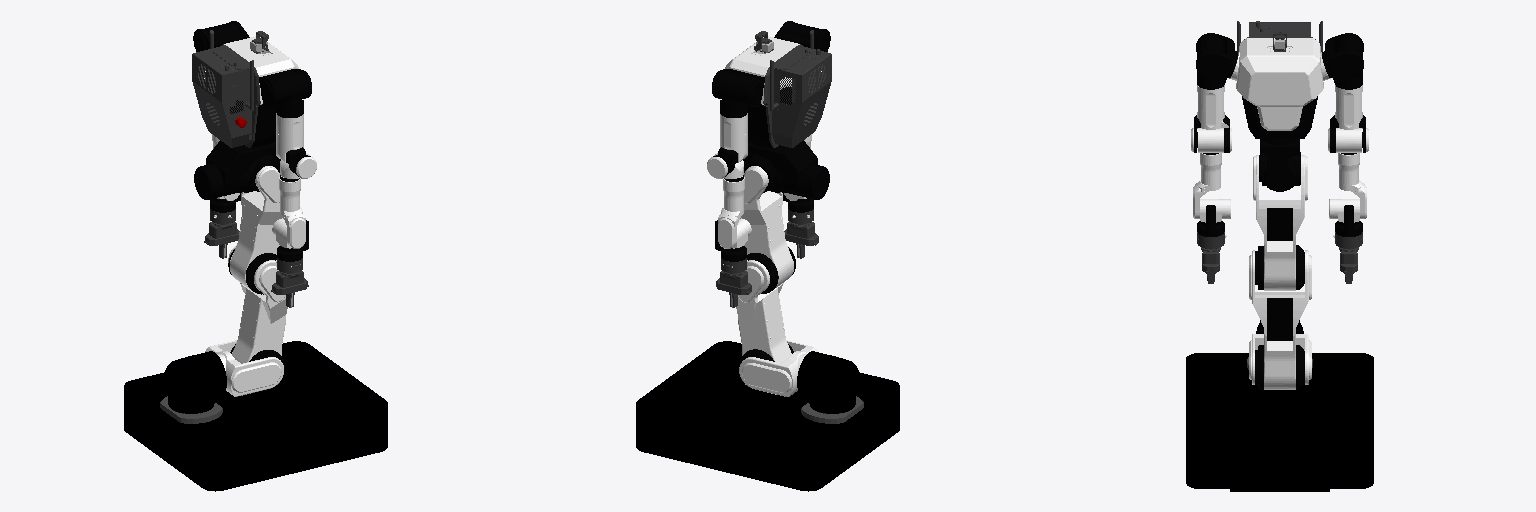
--- Render facts (derived) ---
3 views of the same robot in one strip: view 1: azimuth 30°, elevation 25°; view 2: azimuth 150°, elevation 25°; view 3: azimuth 270°, elevation 25° (orthographic).
Robot: RBY1_M_v1.1 — 34 links, 33 joints (22 revolute, 4 continuous, 4 prismatic, 3 fixed); root link base; default pose: all joints at 0.
Links seen in each view (by area): view 1: base, link_torso_5, link_torso_2, link_torso_1, link_torso_4, link_torso_0, link_right_arm_2, link_right_arm_1, link_right_arm_3, link_right_arm_5, link_right_arm_4, link_right_arm_0 (+4 smaller); view 2: base, link_torso_5, link_torso_2, link_torso_1, link_torso_4, link_torso_0, link_left_arm_2, link_left_arm_1, link_left_arm_3, link_left_arm_5, link_left_arm_4, link_left_arm_0 (+4 smaller); view 3: base, link_torso_5, link_torso_1, link_torso_2, link_torso_4, link_right_arm_2, link_left_arm_2, link_right_arm_3, link_left_arm_3, link_right_arm_0, link_left_arm_0, link_right_arm_5 (+4 smaller).
Link boxes in pixels (<box>): base: <box>124,341,387,491</box>; link_torso_5: <box>192,30,298,147</box>; link_torso_2: <box>228,166,283,294</box>; link_torso_1: <box>228,245,287,390</box>; link_torso_4: <box>194,140,279,199</box>; link_torso_0: <box>205,340,283,396</box>; link_right_arm_2: <box>275,113,316,178</box>; link_right_arm_1: <box>271,72,306,117</box>; link_right_arm_3: <box>277,153,309,209</box>; link_right_arm_5: <box>272,218,308,261</box>; link_right_arm_4: <box>280,207,305,248</box>; link_right_arm_0: <box>259,69,311,106</box>; base: <box>636,341,899,491</box>; link_torso_5: <box>725,30,831,147</box>; link_torso_2: <box>740,166,795,293</box>; link_torso_1: <box>736,246,793,390</box>; link_torso_4: <box>747,140,829,199</box>; link_torso_0: <box>739,341,817,396</box>; link_left_arm_2: <box>707,113,748,178</box>; link_left_arm_1: <box>717,72,752,117</box>; link_left_arm_3: <box>714,153,746,209</box>; link_left_arm_5: <box>715,218,751,261</box>; link_left_arm_4: <box>718,207,743,248</box>; link_left_arm_0: <box>712,69,764,106</box>; base: <box>1186,320,1373,491</box>; link_torso_5: <box>1228,21,1331,142</box>; link_torso_1: <box>1249,250,1311,389</box>; link_torso_2: <box>1253,155,1307,290</box>; link_torso_4: <box>1260,139,1299,191</box>; link_right_arm_2: <box>1191,85,1231,152</box>; link_left_arm_2: <box>1328,85,1368,152</box>; link_right_arm_3: <box>1197,128,1228,183</box>; link_left_arm_3: <box>1331,128,1362,183</box>; link_right_arm_0: <box>1196,33,1235,83</box>; link_left_arm_0: <box>1324,33,1363,83</box>; link_right_arm_5: <box>1197,199,1230,236</box>.
Size in the robot's own frame: 0.695 by 0.6 by 1.47 metres.
29 mesh visuals loaded from 28 distinct referenced files (25 Collada DAE); not drawn: 5 (reference not matched to a file when rendering).

The robot description file, URDF, robot "RBY1_M_v1.1":
<?xml version="1.0"?>
<robot name="RBY1_M_v1.1">
    <mobile type="mecanum" xyz="0 0 0" rpy="0 0 0" joints="wheel_fr wheel_fl wheel_rr wheel_rl"
            params="0.245 0.245 0.076"/> <!-- Lx, Ly, wheel_radius -->

    <link name="base">
        <inertial>
            <mass value="82.93082168"/>
            <origin rpy="0 0 0" xyz="-0.05361531 -0.00279946 0.13500266"/>
            <inertia ixx="2.38184773" ixy="0.00958286" ixz="0.32695003" iyy="4.04857218" iyz="-0.01527373"
                     izz="5.45210782"/>
        </inertial>
        <visual>
            <geometry>
                <mesh filename="./meshes/base.dae"/>
            </geometry>
        </visual>
    </link>

    <link name="wheel_fr_link">
        <inertial>
            <mass value="2.54410022"/>
            <origin rpy="0 0 3.1415926535897932384626433832795" xyz="-0.00010511 0.00094580 0.0"/>
            <inertia ixx="0.00470985" ixy="-0.00000025" ixz="0.0" iyy="0.00616429" iyz="0.0" izz="0.00470754"/>
        </inertial>
        <visual>
            <geometry>
                <mesh filename="./meshes/MECANUM_WHEEL.dae"/>
            </geometry>
        </visual>
    </link>

    <link name="wheel_fl_link">
        <inertial>
            <mass value="2.54417879"/>
            <origin rpy="0 0 0" xyz="-0.00010433 -0.00094577 0.0"/>
            <inertia ixx="0.00471013" ixy="0.00000025" ixz="0.0" iyy="0.00616468" iyz="0.0" izz="0.00470782"/>
        </inertial>
        <visual>
            <geometry>
                <mesh filename="./meshes/MECANUM_WHEEL_M.dae"/>
            </geometry>
        </visual>
    </link>

    <link name="wheel_rr_link">
        <inertial>
            <mass value="2.54410022"/>
            <origin rpy="0 0 0" xyz="-0.00010511 0.00094580 0.0"/>
            <inertia ixx="0.00470985" ixy="-0.00000025" ixz="0.0" iyy="0.00616429" iyz="0.0" izz="0.00470754"/>
        </inertial>
        <visual>
            <geometry>
                <mesh filename="./meshes/MECANUM_WHEEL_M.dae"/>
            </geometry>
        </visual>
    </link>

    <link name="wheel_rl_link">
        <inertial>
            <mass value="2.54417879"/>
            <origin rpy="0 0 3.1415926535897932384626433832795" xyz="-0.00010433 -0.00094577 0.0"/>
            <inertia ixx="0.00471013" ixy="0.00000025" ixz="0.0" iyy="0.00616468" iyz="0.0" izz="0.00470782"/>
        </inertial>

        <visual>
            <geometry>
                <mesh filename="./meshes/MECANUM_WHEEL.dae"/>
            </geometry>
        </visual>
    </link>

    <link name="link_torso_0">
        <inertial>
            <mass value="2.24282123"/>
            <origin rpy="0 0 0" xyz="-0.08848415 0.00021367 0.00000046"/>
            <inertia ixx="0.01413496" ixy="0.00092982" ixz="-0.00000010" iyy="0.01005357"
                     iyz="-0.00000008" izz="0.01892525"/>
        </inertial>

        <visual>
            <geometry>
                <mesh filename="./meshes/LINK_1.dae"/>
            </geometry>
        </visual>

        <collision>
            <origin xyz="-0.115 0 0" rpy="0 1.5708 0"/>
            <geometry>
                <capsule radius="0.105" length="0.230" coltype="1"/>
                <!-- <capsule sp="0.0 0.0 0.0" ep="-0.230 0.0 0.0" radius="0.105" length="1" /> -->
            </geometry>
        </collision>
    </link>

    <link name="link_torso_1">
        <inertial>
            <mass value="9.72162676"/>
            <origin rpy="0 0 0" xyz="0.00728955 -0.01728522 0.06911380"/>
            <inertia ixx="0.14862640" ixy="-0.00142621" ixz="-0.00951385" iyy="0.13854733"
                     iyz="-0.00975351" izz="0.02912982"/>
        </inertial>

        <visual>
            <geometry>
                <mesh filename="./meshes/LINK_2.dae"/>
            </geometry>
        </visual>

        <collision>
            <origin xyz="0.0100 0 0.2400" rpy="0 0 0"/>
            <geometry>
                <capsule radius="0.115" length="0.220" coltype="2"/>
                <!-- <capsule sp="0.01 0.0 0.130" ep="0.01 0.0 0.350" radius="0.115" /> -->
            </geometry>
        </collision>
    </link>

    <link name="link_torso_2">
        <inertial>
            <mass value="9.21691850"/>
            <origin rpy="0 0 0" xyz="0.00653835 -0.01769536 0.05636582"/>
            <inertia ixx="0.12162270" ixy="-0.00127910" ixz="-0.00831678" iyy="0.11589190"
                     iyz="-0.00873271" izz="0.03094484"/>
        </inertial>

        <visual>
            <geometry>
                <mesh filename="./meshes/LINK_3.dae"/>
            </geometry>
        </visual>

        <collision>
            <origin xyz="0.0250 0 0.2300" rpy="0 0 0"/>
            <geometry>
                <capsule radius="0.095" length="0.1600" coltype="4"/>
                <!-- <capsule sp="0.025 0.0 0.15" ep="0.025 0.0 0.310" radius="0.095" /> -->
            </geometry>
        </collision>
    </link>

    <link name="link_torso_3">
        <inertial>
            <mass value="4.18679196"/>
            <origin rpy="0 0 0" xyz="-0.00574156 -0.01725975 0.00005610"/>
            <inertia ixx="0.00849870" ixy="0.00040861" ixz="-0.00000263" iyy="0.00929513"
                     iyz="-0.00001243" izz="0.00955442"/>
        </inertial>

        <visual>
            <geometry>
                <mesh filename="./meshes/LINK_4.dae"/>
            </geometry>
        </visual>
    </link>

    <link name="link_torso_4">
        <inertial>
            <mass value="4.45566276"/>
            <origin rpy="0 0 0" xyz="-0.09097095 0.00005085 0.02601950"/>
            <inertia ixx="0.01545991" ixy="0.00001883" ixz="-0.00780349" iyy="0.02550888" iyz="0.00000715"
                     izz="0.01952563"/>
        </inertial>

        <visual>
            <geometry>
                <mesh filename="./meshes/LINK_5.dae"/>
            </geometry>
        </visual>


        <collision>
            <origin xyz="-0.070000 0 0.038500" rpy="0 1.5708 0"/>
            <geometry>
                <capsule radius="0.105" length="0.2" coltype="8"/>
                <!-- <capsule sp="0.03 0.0 0.0385" ep="-0.170 0.0 0.0385" radius="0.105" /> -->
            </geometry>
        </collision>
    </link>

    <link name="link_torso_5">
        <inertial>
            <mass value="12.59012341"/>
            <origin rpy="0 0 0" xyz="-0.01338376 0.00025621 -0.03272487"/>
            <inertia ixx="0.21375525" ixy="0.00051520" ixz="0.00880124" iyy="0.16562090" iyz="-0.00023995"
                     izz="0.13308879"/>
        </inertial>

        <visual>
            <geometry>
                <mesh filename="./meshes/LINK_6.dae"/>
            </geometry>
        </visual>

        <collision>
            <origin xyz="0 0 0.0075" rpy="0 0 0"/>
            <geometry>
                <capsule radius="0.155" length="0.1350" coltype="16"/>
                <!-- <capsule sp="0.0 0.0 -0.06" ep="0.0 0.0 0.075" radius="0.155" /> -->
            </geometry>
        </collision>
    </link>

    <link name="link_right_arm_0">
        <inertial>
            <mass value="1.26164242"/>
            <origin rpy="0 0 0" xyz="-0.00316662 0.03437181 -0.00000030"/>
            <inertia ixx="0.00230621" ixy="0.00039024" ixz="-0.00000256" iyy="0.00426418" iyz="0.00000118"
                     izz="0.00432156"/>
        </inertial>

        <visual>
            <geometry>
                <mesh filename="./meshes/LINK_7.dae"/>
            </geometry>
        </visual>

        <collision>
            <origin xyz="-0.015 0.018 -0.008" rpy="0 1.5708 0"/>
            <geometry>
                <capsule radius="0.075" length="0.0700"/>
            </geometry>
        </collision>
    </link>

    <link name="link_right_arm_1">
        <inertial>
            <mass value="2.27287031"/>
            <origin rpy="0 0 0" xyz="-0.00307855 -0.00124741 -0.01294324"/>
            <inertia ixx="0.00388490" ixy="-0.00001477" ixz="0.00011465" iyy="0.00447034"
                     iyz="-0.00010023" izz="0.00288341"/>
        </inertial>

        <visual>
            <geometry>
                <mesh filename="./meshes/LINK_8.dae"/>
            </geometry>
        </visual>

        <collision>
            <origin xyz="0 0 -0.1000" rpy="0 0 0"/>
            <geometry>
                <capsule radius="0.05" length="0.2" coltype="32"/>
                <!-- <capsule sp="0.0 0.0 0.0" ep="0.0 0.0 -0.200" radius="0.050" /> -->
            </geometry>
        </collision>
    </link>

    <link name="link_right_arm_2">
        <inertial>
            <mass value="2.46909439"/>
            <origin rpy="0 0 0" xyz="0.00115434 -0.00196635 -0.16192524"/>
            <inertia ixx="0.00980269" ixy="0.00005871" ixz="0.00051888" iyy="0.00924560" iyz="-0.00045932"
                     izz="0.00329867"/>
        </inertial>

        <visual>
            <geometry>
                <mesh filename="./meshes/LINK_9.dae"/>
            </geometry>
        </visual>

        <collision>
            <origin xyz="0.0260 0 -0.2760" rpy="1.5708 0 0"/>
            <geometry>
                <capsule radius="0.05" length="0.080000" coltype="64"/>
                <!-- <capsule sp="0.026 -0.040 -0.276" ep="0.026 0.040 -0.276" radius="0.05" /> -->
            </geometry>
        </collision>
    </link>

    <link name="link_right_arm_3">
        <inertial>
            <mass value="2.26099493"/>
            <origin rpy="0 0 0" xyz="-0.01603135 -0.00692891 -0.04549811"/>
            <inertia ixx="0.00822606" ixy="0.00027620" ixz="-0.00156570" iyy="0.00844870" iyz="0.00076157"
                     izz="0.00236614"/>
        </inertial>

        <visual>
            <geometry>
                <mesh filename="./meshes/LINK_10.dae"/>
            </geometry>
        </visual>

        <collision>
            <origin xyz="-0.0310 0 -0.1075" rpy="0 0 0"/>
            <geometry>
                <capsule radius="0.04" length="0.1150" coltype="128" colaffinity="30"/>
                <!-- <capsule sp="-0.031 0.0 -0.05" ep="-0.031 0.0 -0.165" radius="0.04" /> -->
            </geometry>
        </collision>
    </link>

    <link name="link_right_arm_4">
        <inertial>
            <mass value="0.42508710"/>
            <origin rpy="0 0 0" xyz="-0.00000011 -0.02696036 0.06182110"/>
            <inertia ixx="0.00082466" ixy="0.0" ixz="0.0" iyy="0.00075398" iyz="-0.00025338"
                     izz="0.00039794"/>
        </inertial>

        <visual>
            <geometry>
                <mesh filename="./meshes/LINK_11.dae"/>
            </geometry>
        </visual>

        <collision>
            <origin xyz="0 -0.038 0.0175" rpy="0 0 0"/>
            <geometry>
                <capsule radius="0.035" length="0.095" coltype="256" colaffinity="30"/>
            </geometry>
        </collision>
    </link>

    <link name="link_right_arm_5">
        <inertial>
            <mass value="1.60506693"/>
            <origin rpy="0 0 0" xyz="0.00592642 -0.00537804 -0.02584713"/>
            <inertia ixx="0.00247557" ixy="-0.00004984" ixz="-0.00009861" iyy="0.00268241"
                     iyz="0.00021452" izz="0.00166724"/>
        </inertial>

        <visual>
            <geometry>
                <mesh filename="./meshes/LINK_12_v1.1.dae"/>
            </geometry>
        </visual>

        <collision>
            <origin xyz="0 0 -0.08565" rpy="0 0 0"/>
            <geometry>
                <capsule radius="0.075" length="0.2213" coltype="512" colaffinity="31"/>
            </geometry>
        </collision>
    </link>

    <link name="link_right_arm_6">
        <inertial>
            <mass value="0.42751673"/>
            <origin rpy="0 0 0" xyz="0.00024951 -0.00019562 -0.10711314"/>
            <inertia ixx="0.00029613" ixy="-0.00000186" ixz="-0.00000157" iyy="0.00030651"
                     iyz="0.00000221" izz="0.00048946"/>
        </inertial>

        <visual>
            <geometry>
                <mesh filename="./meshes/LINK_13_v1.1.dae"/>
            </geometry>
        </visual>
    </link>

    <link name="link_left_arm_0">
        <inertial>
            <mass value="1.26164242"/>
            <origin rpy="0 0 0" xyz="-0.00316662 -0.03437151 0.00000242"/>
            <inertia ixx="0.00230624" ixy="-0.00039022" ixz="0.00000269" iyy="0.00426418" iyz="0.00000108"
                     izz="0.00432159"/>
        </inertial>

        <visual>
            <geometry>
                <mesh filename="./meshes/LINK_14.dae"/>
            </geometry>
        </visual>

        <collision>
            <origin xyz="-0.015 -0.018 -0.008" rpy="0 1.5708 0"/>
            <geometry>
                <capsule radius="0.075" length="0.0700"/>
            </geometry>
        </collision>
    </link>

    <link name="link_left_arm_1">
        <inertial>
            <mass value="1.88138658"/>
            <origin rpy="0 0 0" xyz="-0.00183470 0.00040596 -0.01008733"/>
            <inertia ixx="0.00295838" ixy="-0.00001176" ixz="0.00006949" iyy="0.00355208" iyz="0.00004467"
                     izz="0.00230558"/>
        </inertial>

        <visual>
            <geometry>
                <mesh filename="./meshes/LINK_15.dae"/>
            </geometry>
        </visual>

        <collision>
            <origin xyz="0 0 -0.1000" rpy="0 0 0"/>
            <geometry>
                <capsule radius="0.050" length="0.2000" colaffinity="768"/>
            </geometry>
        </collision>
    </link>

    <link name="link_left_arm_2">
        <inertial>
            <mass value="2.35634437"/>
            <origin rpy="0 0 0" xyz="0.00066086 -0.00038583 -0.15742972"/>
            <inertia ixx="0.00842712" ixy="0.00000247" ixz="0.00036948" iyy="0.00802311" iyz="-0.00006550"
                     izz="0.00295678"/>
        </inertial>

        <visual>
            <geometry>
                <mesh filename="./meshes/LINK_16.dae"/>
            </geometry>
        </visual>

        <collision>
            <origin xyz="0.0260 0 -0.2760" rpy="1.5708 0 0"/>
            <geometry>
                <capsule radius="0.05" length="0.080000" colaffinity="768"/>
            </geometry>
        </collision>
    </link>

    <link name="link_left_arm_3">
        <inertial>
            <mass value="2.00905891"/>
            <origin rpy="0 0 0" xyz="-0.01565298 0.00793126 -0.04997943"/>
            <inertia ixx="0.00756474" ixy="-0.00026771" ixz="-0.00155419" iyy="0.00772758"
                     iyz="-0.00084364" izz="0.00199754"/>
        </inertial>

        <visual>
            <geometry>
                <mesh filename="./meshes/LINK_17.dae"/>
            </geometry>
        </visual>

        <collision>
            <origin xyz="-0.0310 0 -0.1075" rpy="0 0 0"/>
            <geometry>
                <capsule radius="0.04" length="0.1150" colaffinity="926"/>
            </geometry>
        </collision>
    </link>

    <link name="link_left_arm_4">
        <inertial>
            <mass value="0.42508710"/>
            <origin rpy="0 0 0" xyz="0.00000011 0.02696036 0.06182110"/>
            <inertia ixx="0.00082466" ixy="0.0" ixz="0.0" iyy="0.00075398" iyz="0.00025338"
                     izz="0.00039794"/>
        </inertial>

        <visual>
            <geometry>
                <mesh filename="./meshes/LINK_18.dae"/>
            </geometry>
        </visual>

        <collision>
            <origin xyz="0 0.038000 0.017500" rpy="0 0 0"/>
            <geometry>
                <capsule radius="0.035" length="0.095000" colaffinity="1022"/>
            </geometry>
        </collision>
    </link>

    <link name="link_left_arm_5">
        <inertial>
            <mass value="1.60424243"/>
            <origin rpy="0 0 0" xyz="0.00592398 -0.01167056 -0.02584035"/>
            <inertia ixx="0.00247523" ixy="-0.00004992" ixz="-0.00009867" iyy="0.00268221"
                     iyz="0.00021464" izz="0.00166703"/>
        </inertial>

        <visual>
            <geometry>
                <mesh filename="./meshes/LINK_19_v1.1.dae"/>
            </geometry>
        </visual>

        <collision>
            <origin xyz="0 0 -0.08565" rpy="0 0 0"/>
            <geometry>
                <capsule radius="0.075" length="0.2213" colaffinity="1023"/>
            </geometry>
        </collision>
    </link>

    <link name="link_left_arm_6">
        <inertial>
            <mass value="0.42751673"/>
            <origin rpy="0 0 0" xyz="-0.00024951 0.00019562 -0.10711314"/>
            <inertia ixx="0.00029613" ixy="-0.00000186" ixz="0.00000157" iyy="0.00030651"
                     iyz="-0.00000221" izz="0.00048946"/>
        </inertial>

        <visual>
            <geometry>
                <mesh filename="./meshes/LINK_20_v1.1.dae"/>
            </geometry>
        </visual>
    </link>

    <link name="ee_right">
        <inertial>
            <mass value="0.46704998"/>
            <origin rpy="0 0 0" xyz="0.00212703 0.00000615 -0.04287176"/>
            <inertia ixx="0.00032067" ixy="0.00002383" ixz="-0.00000785" iyy="0.00059559"
                     iyz="-0.00000007" izz="0.00052732"/>
        </inertial>

        <visual>
            <geometry>
                <mesh filename="./meshes/EE_BODY.dae"/>
            </geometry>
        </visual>
    </link>

    <link name="ee_finger_r1">
        <inertial>
            <mass value="0.03326999"/>
            <origin rpy="0 0 0" xyz="0.00278346 -0.00000329 -0.02570112"/>
            <inertia ixx="0.00001231" ixy="0.0" ixz="-0.00000042" iyy="0.00001066" iyz="0.0"
                     izz="0.00000224"/>
        </inertial>

        <visual>
            <geometry>
                <mesh filename="./meshes/EE_FINGER.dae"/>
            </geometry>
        </visual>
    </link>

    <link name="ee_finger_r2">
        <inertial>
            <mass value="0.03326999"/>
            <origin rpy="0 0 0" xyz="0.00278346 -0.00000329 -0.02570112"/>
            <inertia ixx="0.00001231" ixy="0.0" ixz="-0.00000042" iyy="0.00001066" iyz="0.0"
                     izz="0.00000224"/>
        </inertial>

        <visual>
            <geometry>
                <mesh filename="./meshes/EE_FINGER.dae"/>
            </geometry>
        </visual>
    </link>

    <link name="ee_left">
        <inertial>
            <mass value="0.46704998"/>
            <origin rpy="0 0 0" xyz="0.00212703 0.00000615 -0.04287176"/>
            <inertia ixx="0.00032067" ixy="0.00002383" ixz="-0.00000785" iyy="0.00059559"
                     iyz="-0.00000007" izz="0.00052732"/>
        </inertial>

        <visual>
            <geometry>
                <mesh filename="./meshes/EE_BODY.dae"/>
            </geometry>
        </visual>
    </link>

    <link name="ee_finger_l1">
        <inertial>
            <mass value="0.03326999"/>
            <origin rpy="0 0 0" xyz="0.00278346 -0.00000329 -0.02570112"/>
            <inertia ixx="0.00001231" ixy="0.0" ixz="-0.00000042" iyy="0.00001066" iyz="0.0"
                     izz="0.00000224"/>
        </inertial>

        <visual>
            <geometry>
                <mesh filename="./meshes/EE_FINGER.dae"/>
            </geometry>
        </visual>
    </link>

    <link name="ee_finger_l2">
        <inertial>
            <mass value="0.03326999"/>
            <origin rpy="0 0 0" xyz="0.00278346 -0.00000329 -0.02570112"/>
            <inertia ixx="0.00001231" ixy="0.0" ixz="-0.00000042" iyy="0.00001066" iyz="0.0"
                     izz="0.00000224"/>
        </inertial>

        <visual>
            <geometry>
                <mesh filename="./meshes/EE_FINGER.dae"/>
            </geometry>
        </visual>
    </link>

    <link name="link_head_0">
        <inertial>
            <mass value="0.07582110"/>
            <origin rpy="0 0 0" xyz="-0.00800549 0.0 -0.01100308"/>
            <inertia ixx="0.00003307" ixy="0.0" ixz="-0.00000290" iyy="0.00002209" iyz="0.0"
                     izz="0.00003796"/>
        </inertial>

        <visual>
            <geometry>
                <mesh filename="./meshes/PAN_TILT_1.dae"/>
            </geometry>
        </visual>
    </link>

    <link name="link_head_1">
        <inertial>
            <mass value="0.07450580"/>
            <origin rpy="0 0 0" xyz="-0.01150679 -0.00114270 -0.00031579"/>
            <inertia ixx="0.00001850" ixy="-0.00000035" ixz="0.00000203" iyy="0.00002451"
                     iyz="-0.00000010" izz="0.00002062"/>
        </inertial>

        <visual>
            <geometry>
                <mesh filename="./meshes/PAN_TILT_2.dae"/>
            </geometry>
        </visual>
    </link>

    <link name="link_head_2">
        <inertial>
            <mass value="0.03585374"/>
            <origin rpy="0 0 0" xyz="-0.00081966 0.00099024 0.02283704"/>
            <inertia ixx="0.00002046" ixy="0.00000001" ixz="-0.00000027" iyy="0.00001044" iyz="0.00000076"
                     izz="0.00001291"/>
        </inertial>

        <visual>
            <geometry>
                <mesh filename="./meshes/PAN_TILT_3.dae"/>
            </geometry>
        </visual>
    </link>


    <!-- Joints -->
    <joint name="wheel_fr" type="continuous">
        <parent link="base"/>
        <child link="wheel_fr_link"/>
        <origin rpy="0.0 0.0 0.0" xyz="0.243 -0.245 0.076"/>
        <axis xyz="0 1 0"/>
    </joint>

    <joint name="wheel_fl" type="continuous">
        <parent link="base"/>
        <child link="wheel_fl_link"/>
        <origin rpy="0.0 0.0 0.0" xyz="0.243 0.245 0.076"/>
        <axis xyz="0 1 0"/>
    </joint>

    <joint name="wheel_rr" type="continuous">
        <parent link="base"/>
        <child link="wheel_rr_link"/>
        <origin rpy="0.0 0.0 0.0" xyz="-0.247 -0.245 0.076"/>
        <axis xyz="0 1 0"/>
    </joint>

    <joint name="wheel_rl" type="continuous">
        <parent link="base"/>
        <child link="wheel_rl_link"/>
        <origin rpy="0.0 0.0 0.0" xyz="-0.247 0.245 0.076"/>
        <axis xyz="0 1 0"/>
    </joint>

    <joint name="torso_0" type="revolute">
        <parent link="base"/>
        <child link="link_torso_0"/>
        <origin rpy="0.0 0.0 0.0" xyz="0.0 0.0 0.2965"/>
        <axis xyz="1 0 0"/>
        <!-- Nm, rad/s^2, rad/s, (min) rad, (max) rad -->
        <!-- 270Nm, 5rad/s^2, 120deg/s, -15deg, 15deg -->
        <limit effort="270.0"
               acceleration="5.0"
               velocity="2.09439510"
               lower="-0.261799388"
               upper="0.261799388"
        />
    </joint>

    <joint name="torso_1" type="revolute">
        <parent link="link_torso_0"/>
        <child link="link_torso_1"/>
        <origin rpy="0.0 0.0 0.0" xyz="0.0 0.0 0.0"/>
        <axis xyz="0 1 0"/>
        <!-- Nm, rad/s^2, rad/s, (min) rad, (max) rad -->
        <!-- 270Nm, 5rad/s^2, 120deg/s, -30deg, 90deg -->
        <limit effort="270.0"
               acceleration="5.0"
               velocity="2.09439510"
               lower="-0.523598776"
               upper="1.570796327"
        />
    </joint>

    <joint name="torso_2" type="revolute">
        <parent link="link_torso_1"/>
        <child link="link_torso_2"/>
        <origin rpy="0.0 0.0 0.0" xyz="0.0 0.0 0.350"/>
        <axis xyz="0 1 0"/>
        <!-- Nm, rad/s^2, rad/s, (min) rad, (max) rad -->
        <!-- 270Nm, 5rad/s^2, 120deg/s, -150deg, 90deg -->
        <limit effort="270.0"
               acceleration="5.0"
               velocity="2.09439510"
               lower="-2.617993878"
               upper="1.570796327"
        />
    </joint>

    <joint name="torso_3" type="revolute">
        <parent link="link_torso_2"/>
        <child link="link_torso_3"/>
        <origin rpy="0.0 0.0 0.0" xyz="0.0 0.0 0.350"/>
        <axis xyz="0 1 0"/>
        <!-- Nm, rad/s^2, rad/s, (min) rad, (max) rad -->
        <!-- 120Nm, 5rad/s^2, 180deg/s, -45deg, 90deg -->
        <limit effort="120.0"
               acceleration="5.0"
               velocity="3.141592654"
               lower="-0.785398163"
               upper="1.570796327"
        />
    </joint>

    <joint name="torso_4" type="revolute">
        <parent link="link_torso_3"/>
        <child link="link_torso_4"/>
        <origin rpy="0.0 0.0 0.0" xyz="0.0 0.0 0.0"/>
        <axis xyz="1 0 0"/>
        <!-- Nm, rad/s^2, rad/s, (min) rad, (max) rad -->
        <!-- 120Nm, 5rad/s^2, 180deg/s, -30deg, 30deg -->
        <limit effort="120.0"
               acceleration="5.0"
               velocity="3.141592654"
               lower="-0.523598776"
               upper="0.523598776"
        />
    </joint>

    <joint name="torso_5" type="revolute">
        <parent link="link_torso_4"/>
        <child link="link_torso_5"/>
        <origin rpy="0.0 0.0 0.0" xyz="0.0 0.0 0.309426548461"/>
        <axis xyz="0 0 1"/>
        <!-- Nm, rad/s^2, rad/s, (min) rad, (max) rad -->
        <!-- 120Nm, 5rad/s^2, 180deg/s, -135deg, 135deg -->
        <limit effort="120.0"
               acceleration="5.0"
               velocity="3.141592654"
               lower="-2.35619449"
               upper="2.35619449"
        />
    </joint>

    <joint name="right_arm_0" type="revolute">
        <parent link="link_torso_5"/>
        <child link="link_right_arm_0"/>
        <origin rpy="0.0 0.0 0.0" xyz="0.0 -0.220 0.080073451539 "/>
        <axis xyz="0.0 0.93969262 -0.34202014"/>
        <!-- Nm, rad/s^2, rad/s, (min) rad, (max) rad -->
        <!-- 70Nm, 10rad/s^2, 180deg/s, -180deg, 180deg -->
        <limit effort="70.0"
               acceleration="10.0"
               velocity="3.141592654"
               lower="-3.141592654"
               upper="3.141592654"
        />
    </joint>

    <joint name="right_arm_1" type="revolute">
        <parent link="link_right_arm_0"/>
        <child link="link_right_arm_1"/>
        <origin rpy="0.0 0.0 0.0" xyz="0.0 0.0 0.0"/>
        <axis xyz="1 0 0"/>
        <!-- Nm, rad/s^2, rad/s, (min) rad, (max) rad -->
        <!-- 70Nm, 10rad/s^2, 180deg/s, -180deg, 1deg -->
        <limit effort="70.0"
               acceleration="10.0"
               velocity="3.141592654"
               lower="-3.141592654"
               upper="0.017453293"
        />
    </joint>

    <joint name="right_arm_2" type="revolute">
        <parent link="link_right_arm_1"/>
        <child link="link_right_arm_2"/>
        <origin rpy="0.0 0.0 0.0" xyz="0.0 0.0 0.0"/>
        <axis xyz="0 0 1"/>
        <!-- Nm, rad/s^2, rad/s, (min) rad, (max) rad -->
        <!-- 70Nm, 10rad/s^2, 180deg/s, -180deg, 180deg -->
        <limit effort="70.0"
               acceleration="10.0"
               velocity="3.141592654"
               lower="-3.141592654"
               upper="3.141592654"
        />
    </joint>

    <joint name="right_arm_3" type="revolute">
        <parent link="link_right_arm_2"/>
        <child link="link_right_arm_3"/>
        <origin rpy="0.0 0.0 0.0" xyz="0.031 0.0 -0.276"/>
        <axis xyz="0 1 0"/>
        <!-- Nm, rad/s^2, rad/s, (min) rad, (max) rad -->
        <!-- 40Nm, 10rad/s^2, 180deg/s, -150deg, 1deg -->
        <limit effort="40.0"
               acceleration="10.0"
               velocity="3.141592654"
               lower="-2.617993878"
               upper="0.017453293"
        />
    </joint>

    <joint name="right_arm_4" type="revolute">
        <parent link="link_right_arm_3"/>
        <child link="link_right_arm_4"/>
        <origin rpy="0.0 0.0 0.0" xyz="-0.031 0.0 -0.256"/>
        <axis xyz="0 0 1"/>
        <!-- Nm, rad/s^2, rad/s, (min) rad, (max) rad -->
        <!-- 10Nm, 10rad/s^2, 360deg/s, -180deg, 180deg -->
        <limit effort="10.0"
               acceleration="10.0"
               velocity="6.283185308"
               lower="-3.141592654"
               upper="3.141592654"
        />
    </joint>

    <joint name="right_arm_5" type="revolute">
        <parent link="link_right_arm_4"/>
        <child link="link_right_arm_5"/>
        <origin rpy="0.0 0.0 0.0" xyz="0.0 0.0 0.0"/>
        <axis xyz="0 1 0"/>
        <!-- Nm, rad/s^2, rad/s, (min) rad, (max) rad -->
        <!-- 10Nm, 10rad/s^2, 360deg/s, -90deg, 110deg -->
        <limit effort="10.0"
               acceleration="10.0"
               velocity="6.283185308"
               lower="-1.570796327"
               upper="1.919862177"
        />
    </joint>

    <joint name="right_arm_6" type="revolute">
        <parent link="link_right_arm_5"/>
        <child link="link_right_arm_6"/>
        <origin rpy="0.0 0.0 0.0" xyz="0.0 0.0 0.0"/>
        <axis xyz="0 0 1"/>
        <!-- Nm, rad/s^2, rad/s, (min) rad, (max) rad -->
        <!-- 8Nm, 10rad/s^2, 120deg/s, -155deg, 155deg -->
        <limit effort="8.0"
               acceleration="10.0"
               velocity="2.094395102"
               lower="-2.705260340"
               upper="2.705260340"
        />
    </joint>

    <joint name="left_arm_0" type="revolute">
        <parent link="link_torso_5"/>
        <child link="link_left_arm_0"/>
        <origin rpy="0.0 0.0 0.0" xyz="0.0 0.220 0.080073452 "/>
        <axis xyz="0.0 0.93969262 0.34202014"/>
        <!-- Nm, rad/s^2, rad/s, (min) rad, (max) rad -->
        <!-- 70Nm, 10rad/s^2, 180deg/s, -180deg, 180deg -->
        <limit effort="70.0"
               acceleration="10.0"
               velocity="3.141592654"
               lower="-3.141592654"
               upper="3.141592654"
        />
    </joint>

    <joint name="left_arm_1" type="revolute">
        <parent link="link_left_arm_0"/>
        <child link="link_left_arm_1"/>
        <origin rpy="0.0 0.0 0.0" xyz="0.0 0.0 0.0"/>
        <axis xyz="1 0 0"/>
        <!-- Nm, rad/s^2, rad/s, (min) rad, (max) rad -->
        <!-- 70Nm, 10rad/s^2, 180deg/s, -1deg, 180deg -->
        <limit effort="70.0"
               acceleration="10.0"
               velocity="3.141592654"
               lower="-0.017453293"
               upper="3.141592654"
        />
    </joint>

    <joint name="left_arm_2" type="revolute">
        <parent link="link_left_arm_1"/>
        <child link="link_left_arm_2"/>
        <origin rpy="0.0 0.0 0.0" xyz="0.0 0.0 0.0"/>
        <axis xyz="0 0 1"/>
        <!-- Nm, rad/s^2, rad/s, (min) rad, (max) rad -->
        <!-- 70Nm, 10rad/s^2, 180deg/s, -180deg, 180deg -->
        <limit effort="70.0"
               acceleration="10.0"
               velocity="3.141592654"
               lower="-3.141592654"
               upper="3.141592654"
        />
    </joint>

    <joint name="left_arm_3" type="revolute">
        <parent link="link_left_arm_2"/>
        <child link="link_left_arm_3"/>
        <origin rpy="0.0 0.0 0.0" xyz="0.031 0.0 -0.276"/>
        <axis xyz="0 1 0"/>
        <!-- Nm, rad/s^2, rad/s, (min) rad, (max) rad -->
        <!-- 40Nm, 10rad/s^2, 180deg/s, -150deg, 1deg -->
        <limit effort="40.0"
               acceleration="10.0"
               velocity="3.141592654"
               lower="-2.617993878"
               upper="0.017453293"
        />
    </joint>

    <joint name="left_arm_4" type="revolute">
        <parent link="link_left_arm_3"/>
        <child link="link_left_arm_4"/>
        <origin rpy="0.0 0.0 0.0" xyz="-0.031 0.0 -0.256"/>
        <axis xyz="0 0 1"/>
        <!-- Nm, rad/s^2, rad/s, (min) rad, (max) rad -->
        <!-- 10Nm, 10rad/s^2, 360deg/s, -180deg, 180deg -->
        <limit effort="10.0"
               acceleration="10.0"
               velocity="6.283185308"
               lower="-3.141592654"
               upper="3.141592654"
        />
    </joint>

    <joint name="left_arm_5" type="revolute">
        <parent link="link_left_arm_4"/>
        <child link="link_left_arm_5"/>
        <origin rpy="0.0 0.0 0.0" xyz="0.0 0.0 0.0"/>
        <axis xyz="0 1 0"/>
        <!-- Nm, rad/s^2, rad/s, (min) rad, (max) rad -->
        <!-- 10Nm, 10rad/s^2, 360deg/s, -90deg, 110deg -->
        <limit effort="10.0"
               acceleration="10.0"
               velocity="6.283185308"
               lower="-1.570796327"
               upper="1.919862177"
        />
    </joint>

    <joint name="left_arm_6" type="revolute">
        <parent link="link_left_arm_5"/>
        <child link="link_left_arm_6"/>
        <origin rpy="0.0 0.0 0.0" xyz="0.0 0.0 0.0"/>
        <axis xyz="0 0 1"/>
        <!-- Nm, rad/s^2, rad/s, (min) rad, (max) rad -->
        <!-- 8Nm, 10rad/s^2, 120deg/s, -155deg, 155deg -->
        <limit effort="8.0"
               acceleration="10.0"
               velocity="2.094395102"
               lower="-2.705260340"
               upper="2.705260340"
        />
    </joint>

    <joint name="tool_right" type="fixed">
        <parent link="link_right_arm_6"/>
        <child link="ee_right"/>
        <origin rpy="0.0 0.0 0.0" xyz="0.0 0.0 -0.1261"/>
        <axis xyz="0 0 1"/>
    </joint>

    <joint name="gripper_finger_r1" type="prismatic" in_model_type="fixed">
        <parent link="ee_right"/>
        <child link="ee_finger_r1"/>
        <origin rpy="0.0 0.0 0.0" xyz="0.003 0.0 -0.075"/>
        <axis xyz="-1 0 0"/>
        <limit effort="1000" velocity="0.05" lower="-0.05" upper="0"/>
    </joint>

    <joint name="gripper_finger_r2" type="prismatic" in_model_type="fixed">
        <parent link="ee_right"/>
        <child link="ee_finger_r2"/>
        <origin rpy="0.0 0.0 3.1415926535" xyz="-0.003 0.0 -0.075"/>
        <axis xyz="1 0 0"/>
        <limit effort="1000" velocity="0.05" lower="0" upper="0.05"/>
    </joint>

    <joint name="tool_left" type="fixed">
        <parent link="link_left_arm_6"/>
        <child link="ee_left"/>
        <origin rpy="0.0 0.0 0" xyz="0.0 0.0 -0.1261"/>
        <axis xyz="0 0 1"/>
    </joint>

    <joint name="gripper_finger_l1" type="prismatic" in_model_type="fixed">
        <parent link="ee_left"/>
        <child link="ee_finger_l1"/>
        <origin rpy="0.0 0.0 0.0" xyz="0.003 0.0 -0.075"/>
        <axis xyz="-1 0 0"/>
        <limit effort="1000" velocity="0.05" lower="-0.05" upper="0"/>
    </joint>

    <joint name="gripper_finger_l2" type="prismatic" in_model_type="fixed">
        <parent link="ee_left"/>
        <child link="ee_finger_l2"/>
        <origin rpy="0.0 0.0 3.1415926535" xyz="-0.003 0.0 -0.075"/>
        <axis xyz="1 0 0"/>
        <limit effort="1000" velocity="0.05" lower="0" upper="0.05"/>
    </joint>

    <joint name="head_base" type="fixed">
        <parent link="link_torso_5"/>
        <child link="link_head_0"/>
        <origin rpy="0.0 0.0 0.0" xyz="0.022 0.0 0.120073451525"/>
        <axis xyz="0 0 1"/>
    </joint>

    <joint name="head_0" type="revolute">
        <parent link="link_head_0"/>
        <child link="link_head_1"/>
        <origin rpy="0.0 0.0 0.0" xyz="0.0 0.0 0.02"/>
        <axis xyz="0 0 1"/>
        <limit effort="1000" velocity="3.14" lower="-0.523" upper="0.523"/>
    </joint>

    <joint name="head_1" type="revolute">
        <parent link="link_head_1"/>
        <child link="link_head_2"/>
        <origin rpy="0.0 0.0 0.0" xyz="0.0 0.0 0.0"/>
        <axis xyz="0 1 0"/>
        <limit effort="1000" velocity="3.14" lower="-0.35" upper="1.57"/>
    </joint>

    <!-- <joint name="head_mount" type="fixed">
      <parent link="link_head_2" />
      <child link="Arbitrary device" />
      <origin rpy="0.0 0.0 0.0" xyz="0.022 0.0 0.04" />
      <axis xyz="0 0 1" />
    </joint> -->

</robot>
